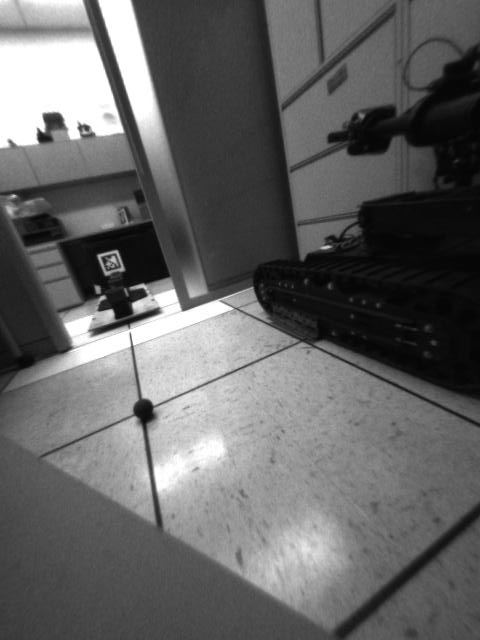dogtoy: (121, 390, 167, 427)
